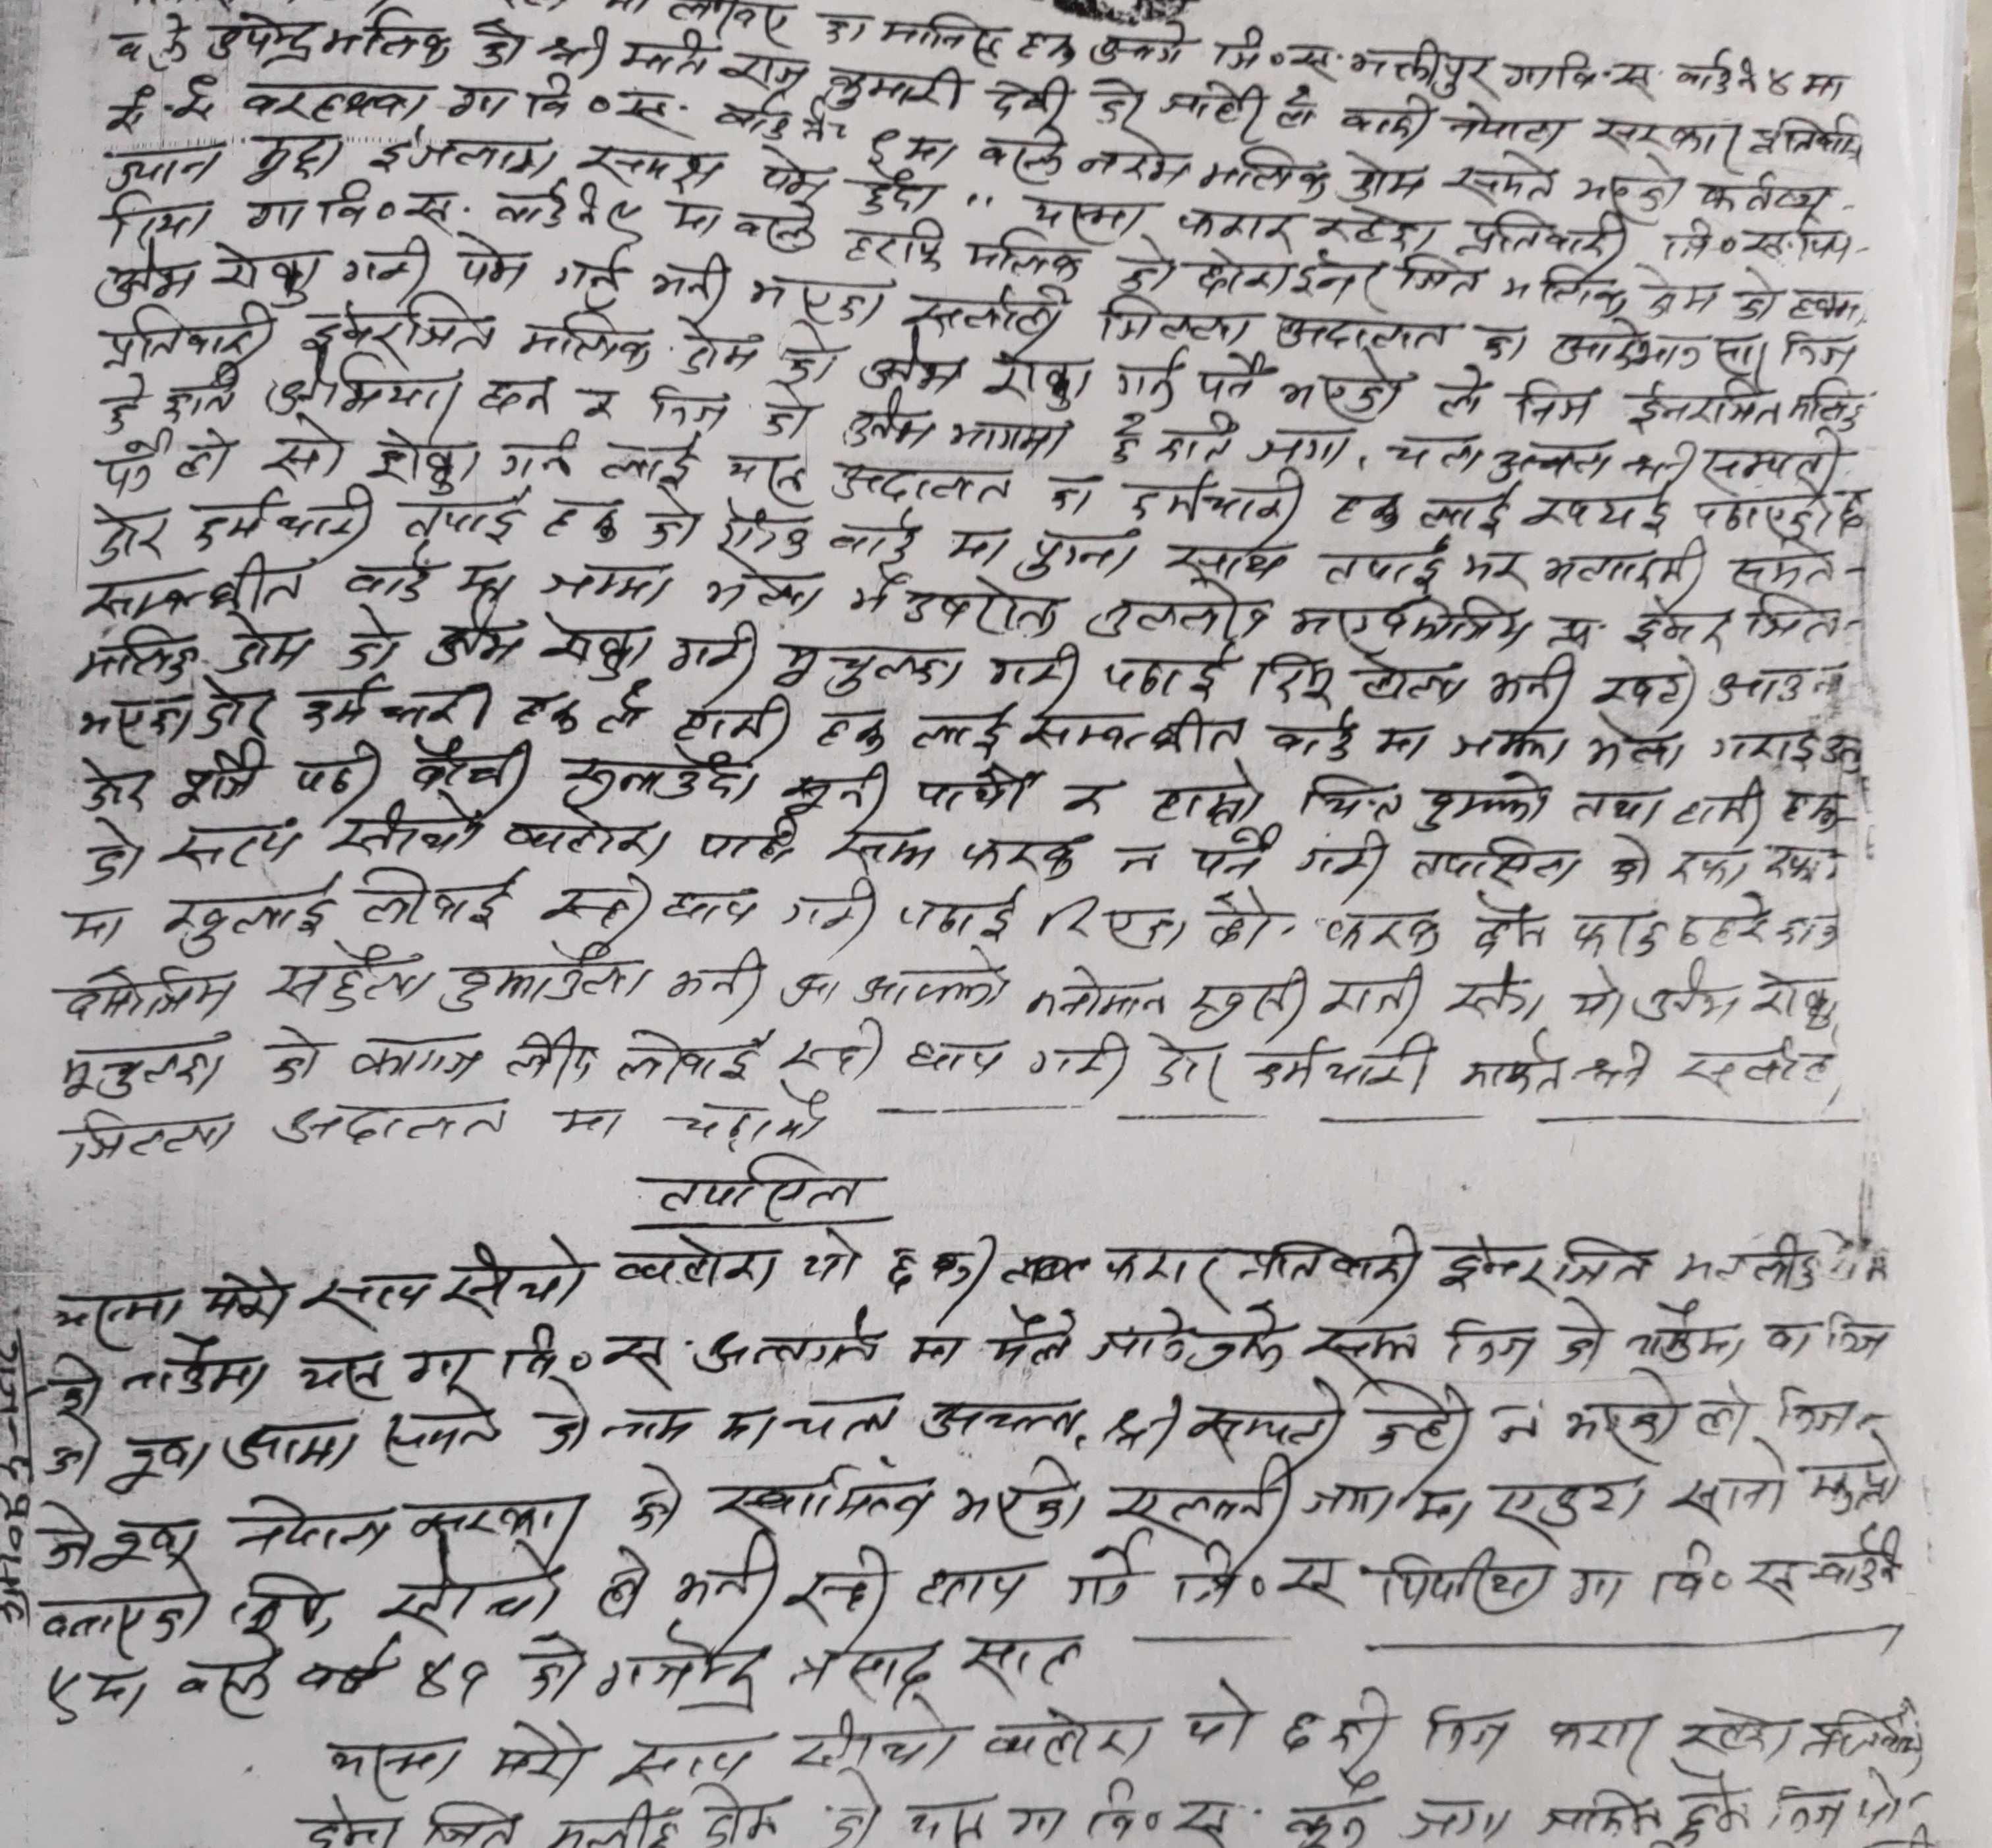text: (1099, 1223, 1426, 1299), (1563, 1537, 1801, 1614), (622, 1157, 889, 1221), (844, 566, 1065, 643), (443, 936, 653, 1016), (703, 1461, 933, 1532), (36, 1568, 219, 1657), (205, 9, 458, 71), (160, 874, 340, 959), (443, 71, 686, 134), (372, 1551, 566, 1629), (1287, 589, 1530, 651), (297, 290, 504, 363), (592, 1631, 769, 1716), (76, 558, 311, 622), (1084, 1301, 1285, 1374), (684, 1304, 889, 1376), (1099, 1452, 1294, 1527), (557, 745, 768, 811), (1160, 1537, 1349, 1610), (1374, 1539, 1554, 1615), (35, 1490, 200, 1574), (56, 1033, 236, 1108), (438, 1233, 597, 1317), (292, 670, 498, 735), (262, 353, 467, 417), (773, 634, 978, 698), (267, 1094, 516, 1146), (787, 1699, 964, 1772), (1184, 1377, 1346, 1457), (1019, 702, 1250, 757), (189, 485, 379, 552), (947, 1450, 1094, 1537), (1238, 1030, 1441, 1092), (89, 304, 285, 368), (50, 1106, 236, 1172), (1080, 582, 1278, 643), (229, 1485, 398, 1556), (1195, 245, 1389, 306), (502, 1318, 681, 1384), (356, 863, 530, 931), (1659, 210, 1855, 269), (500, 804, 676, 870), (1296, 1473, 1471, 1539), (73, 688, 273, 745), (262, 948, 439, 1013), (1539, 531, 1714, 596), (1672, 1037, 1836, 1105), (1561, 1372, 1685, 1461), (983, 1706, 1162, 1766), (610, 1235, 783, 1297), (396, 1495, 597, 1549), (325, 795, 488, 861), (234, 186, 455, 234), (54, 964, 238, 1021), (120, 1334, 271, 1403), (1624, 373, 1785, 438), (663, 1089, 834, 1150), (1122, 467, 1308, 523), (856, 945, 1011, 1011), (912, 1393, 1089, 1450), (236, 75, 431, 127), (901, 281, 1066, 342), (828, 455, 1014, 509), (172, 1631, 280, 1723), (1410, 832, 1582, 889), (226, 1565, 339, 1652), (1356, 1376, 1476, 1457), (49, 1278, 182, 1351), (787, 1542, 894, 1633), (363, 130, 556, 181), (1186, 960, 1313, 1037), (1455, 210, 1633, 264), (670, 1530, 780, 1617), (358, 424, 485, 498), (1664, 1455, 1791, 1530), (1487, 1478, 1646, 1537), (405, 731, 540, 801), (1672, 1231, 1818, 1296), (615, 1023, 759, 1087), (295, 1264, 439, 1329), (1021, 962, 1172, 1023), (1414, 768, 1553, 834), (1276, 354, 1405, 426), (537, 606, 653, 684), (379, 1391, 509, 1461), (1620, 1297, 1749, 1367), (597, 1733, 768, 1785), (821, 57, 971, 116), (1502, 45, 1655, 102), (1520, 481, 1672, 538), (1686, 479, 1834, 538), (518, 309, 653, 373), (1349, 38, 1492, 99), (219, 1419, 365, 1478), (783, 1643, 943, 1697), (66, 622, 196, 688), (1547, 316, 1702, 372), (1270, 309, 1452, 356), (320, 1737, 472, 1792), (1040, 894, 1188, 952), (893, 884, 1032, 945), (1091, 297, 1252, 349), (702, 549, 816, 622), (1631, 955, 1740, 1032), (1144, 759, 1268, 827), (486, 1719, 597, 1794), (1702, 429, 1848, 485), (959, 825, 1087, 888), (985, 1294, 1082, 1376), (153, 820, 309, 870), (1804, 1436, 1905, 1515), (745, 264, 882, 321), (959, 1629, 1084, 1692), (1202, 141, 1330, 201), (1672, 1702, 1801, 1763), (1205, 21, 1337, 80), (1544, 1706, 1662, 1772), (571, 137, 726, 188), (775, 1014, 889, 1082), (1759, 1311, 1895, 1369), (877, 7, 1004, 68), (783, 1384, 903, 1449), (1014, 526, 1144, 585), (981, 349, 1098, 415), (1320, 535, 1454, 592), (669, 688, 797, 747), (420, 597, 526, 669), (170, 740, 276, 811), (391, 493, 526, 549), (1586, 655, 1702, 719), (665, 943, 768, 1016), (1495, 262, 1629, 318), (1440, 148, 1561, 208), (1438, 1233, 1553, 1297), (1436, 96, 1568, 151), (1316, 959, 1428, 1025), (538, 559, 679, 611), (208, 611, 316, 679), (36, 1666, 156, 1726), (1301, 1318, 1424, 1377), (1349, 648, 1466, 710), (349, 1033, 493, 1084), (854, 330, 964, 396), (1705, 662, 1848, 712), (1572, 153, 1686, 215), (1309, 201, 1447, 254), (542, 872, 653, 936), (1101, 643, 1230, 698), (1457, 1033, 1565, 1099), (778, 756, 894, 816), (594, 427, 709, 488), (1441, 719, 1575, 771), (966, 228, 1091, 283), (1692, 168, 1839, 215), (89, 245, 196, 309), (1667, 771, 1766, 841), (837, 215, 953, 274), (207, 243, 323, 302), (776, 877, 886, 940), (1587, 115, 1744, 158), (1290, 769, 1405, 828), (101, 82, 222, 137), (544, 1799, 683, 1848), (1582, 712, 1690, 775), (1749, 960, 1841, 1033), (1443, 962, 1547, 1026), (1751, 111, 1867, 168), (1032, 1026, 1132, 1092), (500, 1023, 596, 1092), (693, 811, 799, 874), (1063, 1534, 1151, 1608), (1155, 76, 1266, 135), (99, 188, 217, 243), (1549, 1231, 1662, 1289), (917, 762, 1037, 816), (238, 123, 344, 184), (1421, 1700, 1511, 1772), (974, 122, 1072, 188), (663, 618, 761, 684), (823, 502, 926, 564), (512, 1631, 594, 1709), (1323, 907, 1445, 959), (983, 636, 1084, 698), (1165, 201, 1304, 247), (85, 498, 175, 568), (99, 1438, 208, 1495), (1619, 597, 1735, 651), (262, 412, 349, 483), (914, 1558, 1025, 1614), (945, 413, 1072, 462), (1136, 1026, 1224, 1096), (1337, 144, 1429, 210), (674, 313, 766, 379), (290, 1641, 396, 1699), (1728, 538, 1834, 596), (821, 822, 938, 874), (910, 702, 1018, 757), (200, 1263, 295, 1325), (1160, 538, 1287, 585), (1466, 889, 1549, 960), (101, 144, 226, 191), (712, 507, 806, 570), (73, 752, 162, 818), (695, 1782, 783, 1848), (1106, 1388, 1186, 1461), (1490, 438, 1619, 483), (491, 181, 603, 233), (839, 396, 943, 452), (1417, 485, 1518, 542), (1290, 828, 1393, 884), (1016, 193, 1151, 234), (292, 738, 387, 797), (1485, 653, 1580, 712), (1443, 1315, 1539, 1374), (408, 1647, 493, 1713), (1379, 426, 1487, 478), (1329, 1685, 1400, 1763), (111, 9, 191, 78), (658, 877, 764, 929), (905, 1030, 1011, 1082), (1184, 1674, 1250, 1758), (733, 198, 820, 261), (420, 1796, 524, 1848), (1740, 594, 1844, 646), (1250, 648, 1337, 710), (1075, 142, 1195, 188), (551, 245, 632, 311), (1674, 893, 1768, 950), (533, 490, 623, 549), (1572, 905, 1667, 960), (722, 445, 809, 505), (1184, 823, 1271, 884), (1771, 1381, 1858, 1442), (531, 1379, 597, 1459), (1337, 92, 1438, 144), (648, 250, 729, 314), (618, 28, 716, 82), (344, 549, 432, 608), (1111, 346, 1184, 417), (622, 1461, 693, 1534), (1247, 424, 1353, 472), (1712, 724, 1818, 773), (1202, 888, 1282, 952), (717, 42, 809, 97), (1087, 23, 1191, 71), (448, 234, 531, 295), (162, 361, 245, 422), (981, 71, 1075, 125), (288, 1348, 396, 1395), (1270, 712, 1363, 764), (646, 379, 736, 432), (596, 1405, 703, 1450), (590, 1544, 651, 1624), (1549, 1294, 1610, 1374), (335, 603, 405, 672), (1509, 373, 1596, 429), (1573, 1039, 1655, 1098), (500, 420, 577, 483), (856, 165, 945, 219), (165, 424, 243, 485), (339, 236, 432, 287), (1671, 47, 1761, 99), (860, 123, 962, 168), (752, 142, 830, 201), (1667, 837, 1758, 888), (1155, 412, 1238, 465), (934, 1230, 1002, 1296), (709, 94, 797, 144), (1568, 783, 1671, 827), (1789, 375, 1869, 431), (1195, 346, 1268, 406), (1398, 254, 1488, 302), (83, 818, 142, 891), (799, 1226, 863, 1292), (269, 1021, 330, 1091), (401, 1341, 485, 1391), (780, 318, 842, 384), (97, 438, 163, 500), (712, 1398, 783, 1455), (1692, 1374, 1749, 1445), (504, 684, 582, 736), (1773, 325, 1858, 372), (476, 373, 557, 422), (811, 707, 889, 757), (1570, 967, 1629, 1032), (1087, 73, 1148, 134), (641, 488, 700, 551), (945, 518, 1011, 573), (1485, 1396, 1544, 1457), (547, 1099, 630, 1141), (1600, 830, 1652, 896), (1457, 542, 1525, 592), (1775, 787, 1843, 837), (1266, 82, 1329, 134), (97, 370, 148, 434), (540, 26, 611, 71), (66, 901, 132, 950), (1705, 327, 1771, 375), (1624, 439, 1700, 481), (1323, 490, 1400, 531), (471, 16, 530, 69), (1374, 721, 1440, 768), (1429, 372, 1490, 422), (1780, 287, 1862, 323), (1641, 281, 1721, 318), (759, 389, 816, 439), (901, 1329, 973, 1369), (879, 1242, 927, 1299), (1730, 267, 1778, 321), (1016, 30, 1080, 69), (1278, 1702, 1322, 1761), (1117, 254, 1174, 297), (603, 195, 653, 243), (1061, 780, 1113, 825), (455, 558, 519, 594), (672, 196, 726, 240), (577, 380, 622, 429), (1108, 410, 1148, 464), (1117, 835, 1169, 875), (1796, 71, 1851, 104), (1551, 611, 1598, 650), (1473, 323, 1513, 363), (1045, 471, 1084, 512), (1763, 61, 1799, 102), (1837, 488, 1869, 535)
